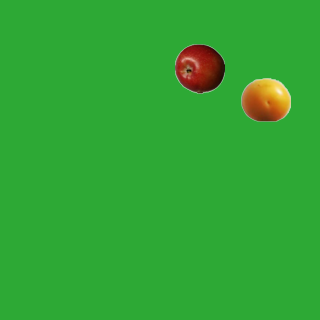Apple Braeburn: (174, 43, 224, 93)
Cherry Wax Yellow: (240, 74, 290, 124)
